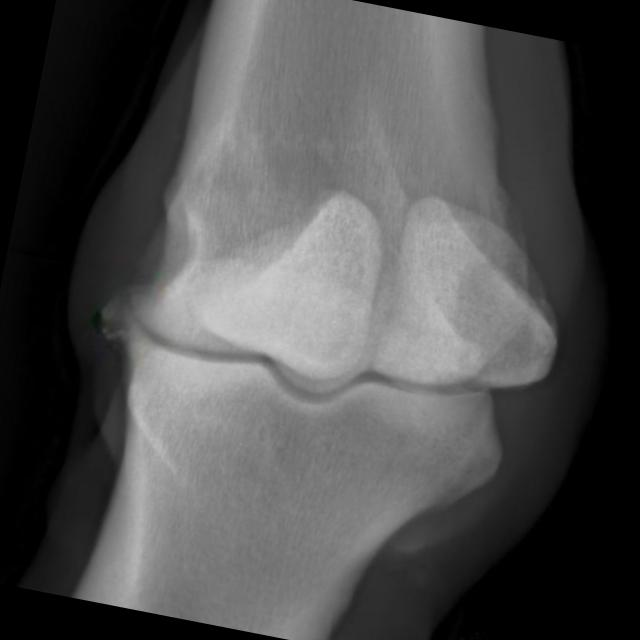bone remodeling: (42, 182, 248, 449)
